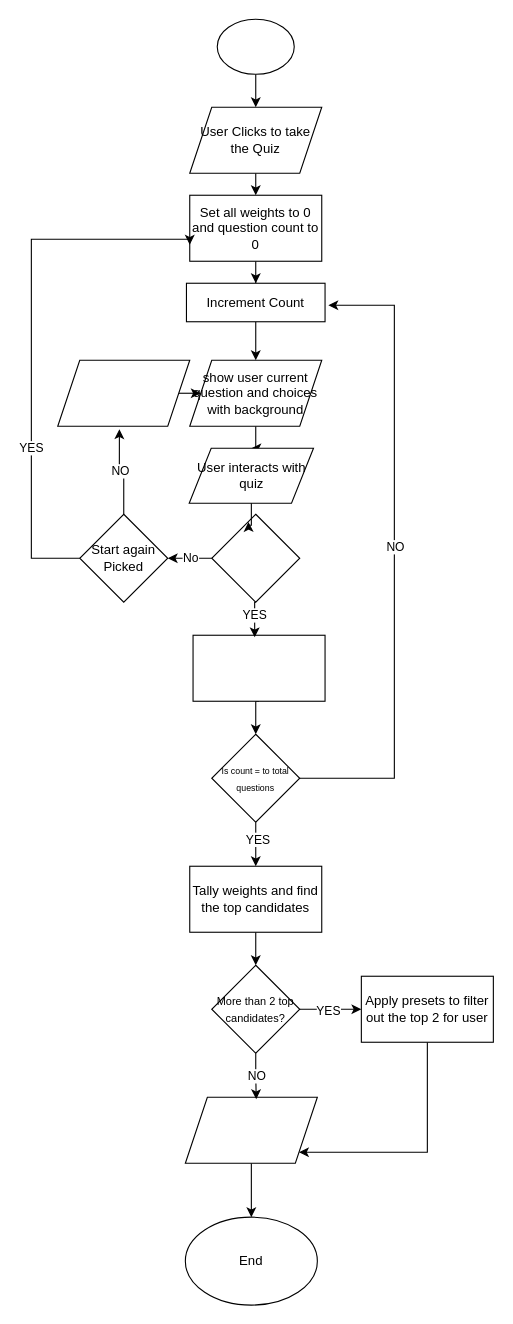
This 513x1324 diagram has some shape labels left out. Each missing label, with the centre of its shape:
"Add answers weights to various outcomes" goes at (x=258, y=667).
"Answer Picked" goes at (x=255, y=557).
"Prompt user to pick an answer" goes at (x=123, y=392).
"Show results with top 2 Systems for user" goes at (x=250, y=1129).
"Start" goes at (x=255, y=46).
